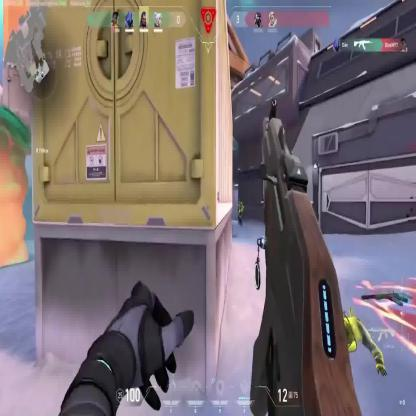enemy: (238, 199, 245, 227)
enemy_head: (239, 199, 241, 205)
